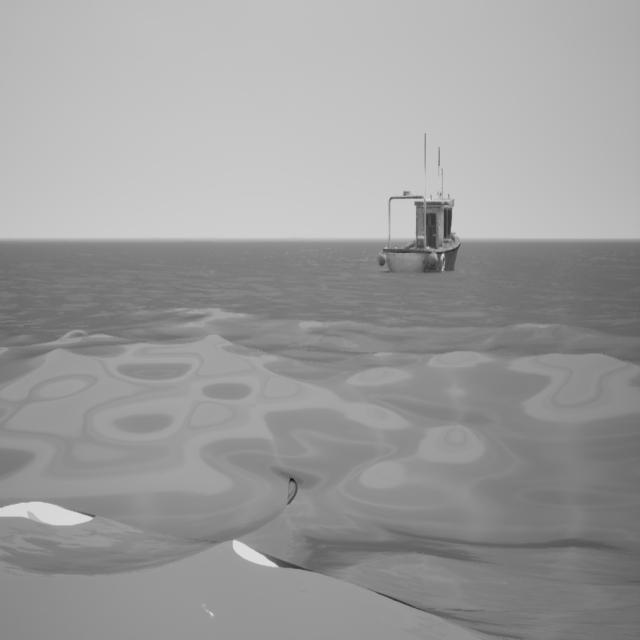ship: (374, 129, 469, 288)
